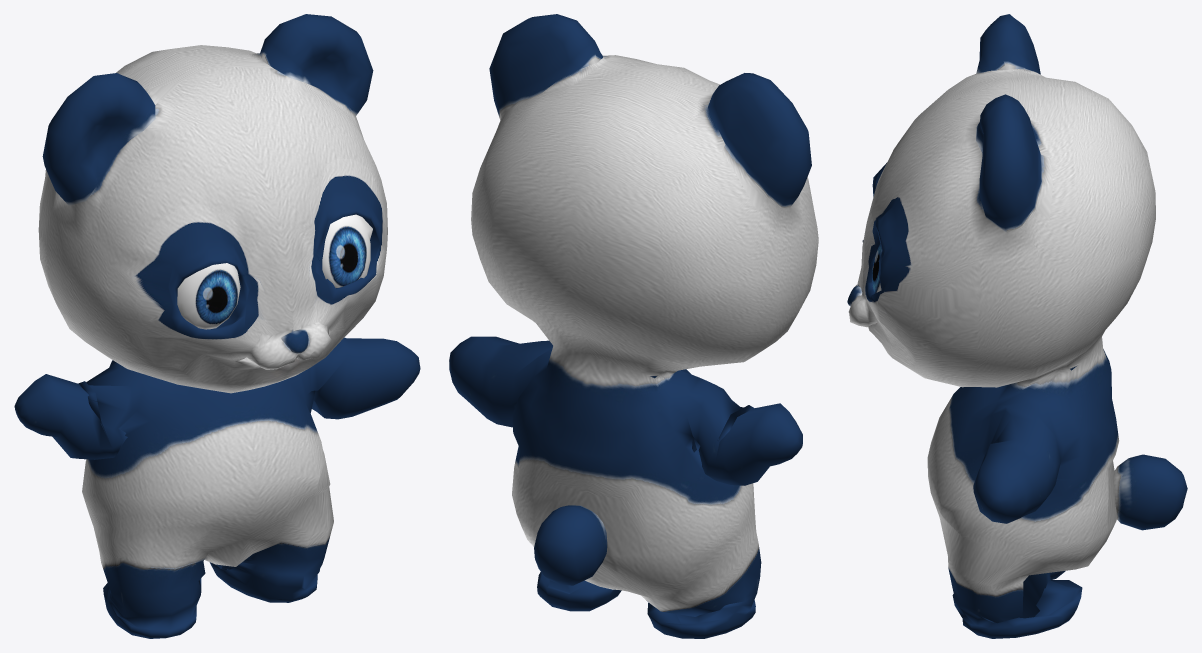
Rendered from substance_Material.FBX.
The picture shows the model from 3 angles, left to right: view 1: azimuth 30°, elevation 25°; view 2: azimuth 150°, elevation 25°; view 3: azimuth 270°, elevation 25°; orthographic projection. The views are drawn at different scales.
Visible parts, largest first — view 1: Panda; view 2: Panda; view 3: Panda.
Boxes of the visible parts, box(x1,y1,x2,y2) form: Panda: box(14, 14, 420, 638); Panda: box(449, 14, 818, 638); Panda: box(847, 14, 1187, 638).
Bounding box in the file's own units: 153 × 222 × 127.
